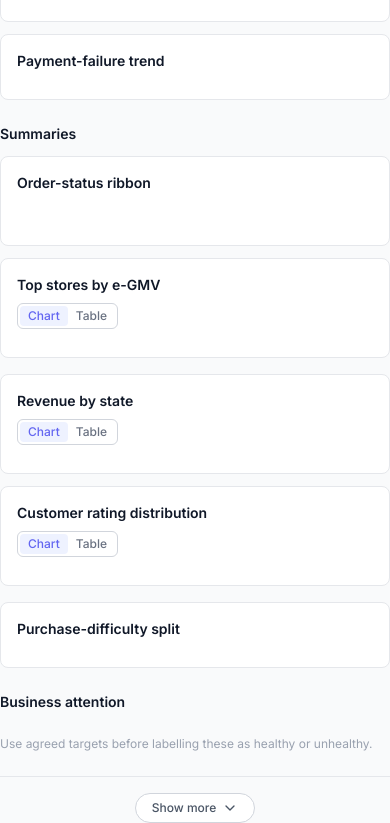
Scenario: Companion Business Health regressions › renders delivery-state revenue from the sales API using raw rupees
(page scrolled)
What coordinates should you click on to do the following:
click the button "Show more"
I would click on:
 (195, 808)
Its box is [135, 793, 255, 822].
(page scrolled)
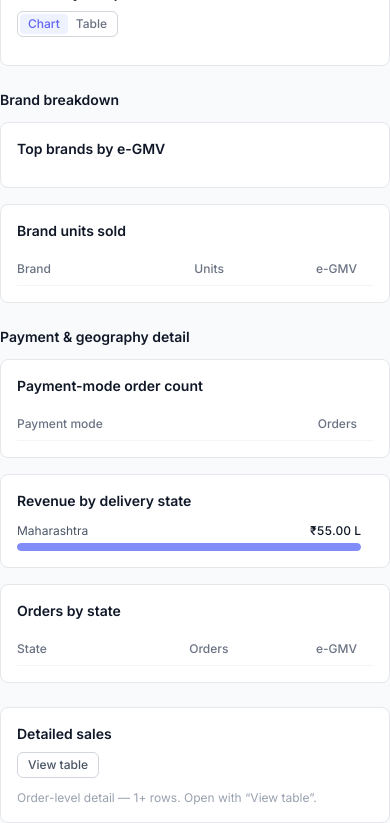
Now the heading "Revenue by delivery state" is shown, box [17, 492, 191, 509]
Now the text "Maharashtra" is shown, box [17, 523, 88, 539]
Now the text "₹55.00 L" is shown, box [310, 523, 361, 539]
